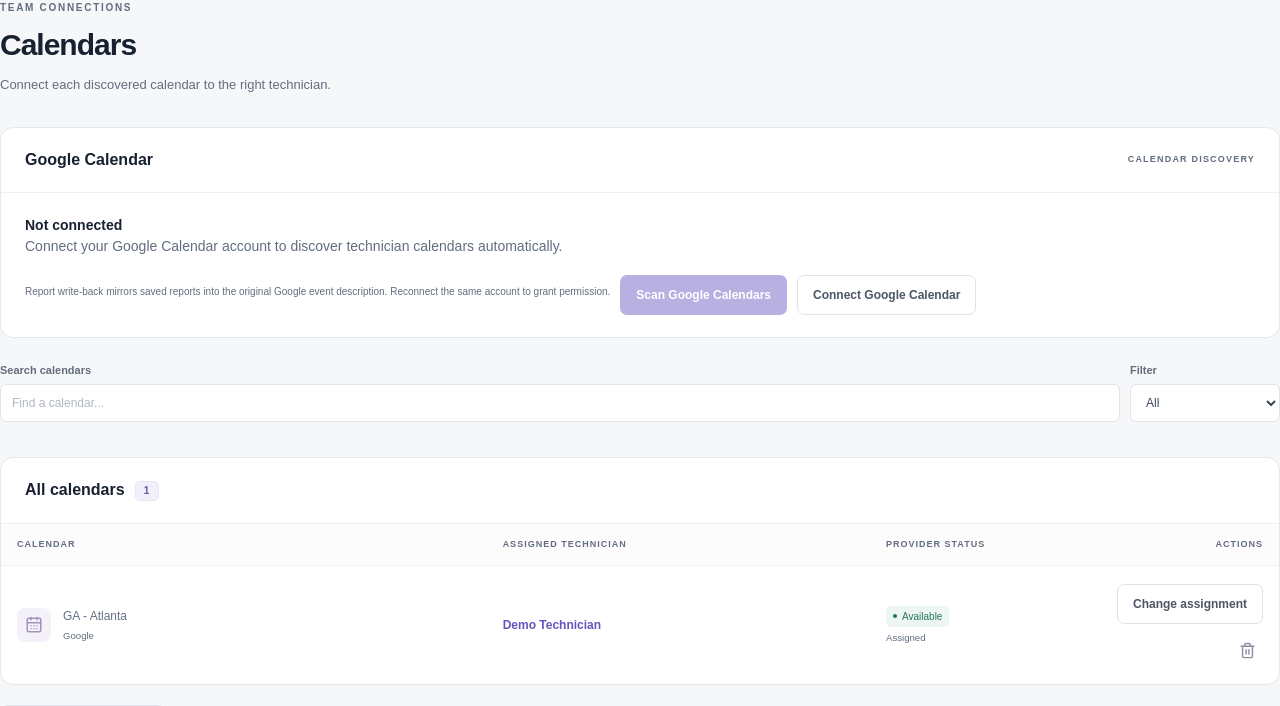
Test: confirms assigned exclusion and does not silently close on failure
Click the button named "Remove GA - Atlanta": (1247, 650) [1231,634,1263,666]
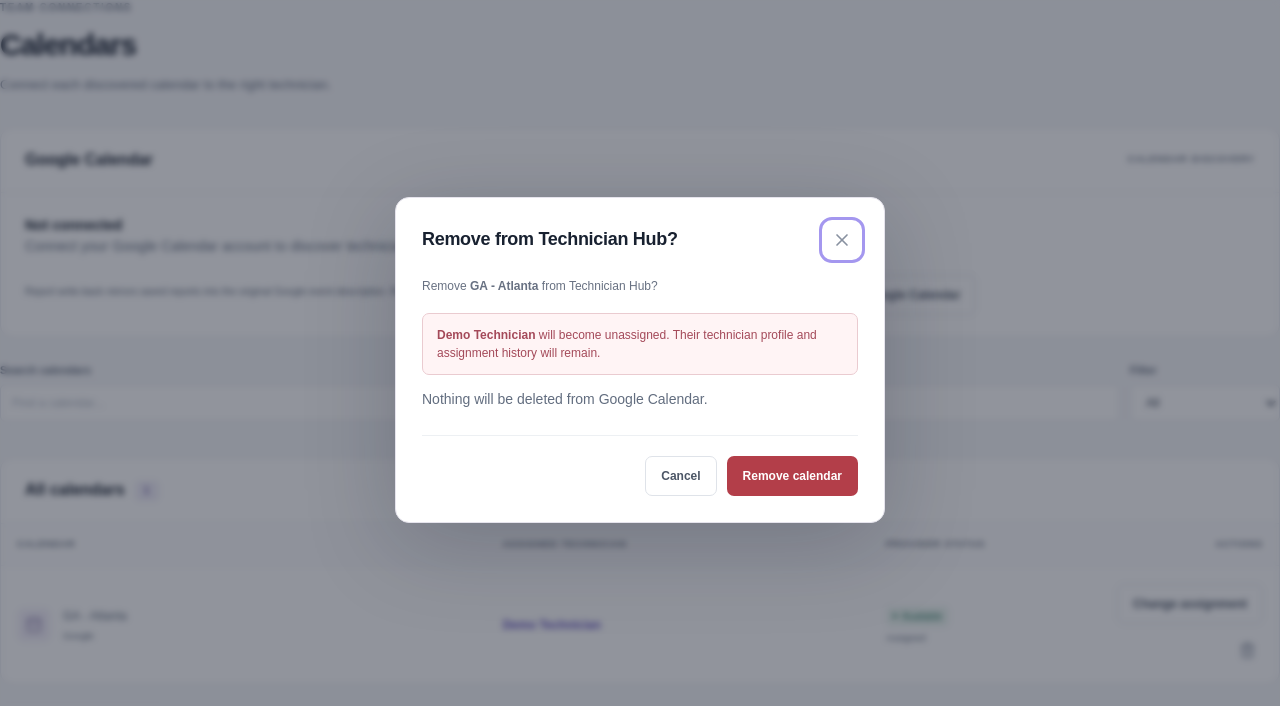
expect the dialog shows "will become unassigned": met, box [437,328,817,360]
expect the dialog shows "Nothing will be deleted from Google Calendar": met, box [422,391,708,407]
Click the button "Remove calendar": (792, 476) [727,456,858,496]
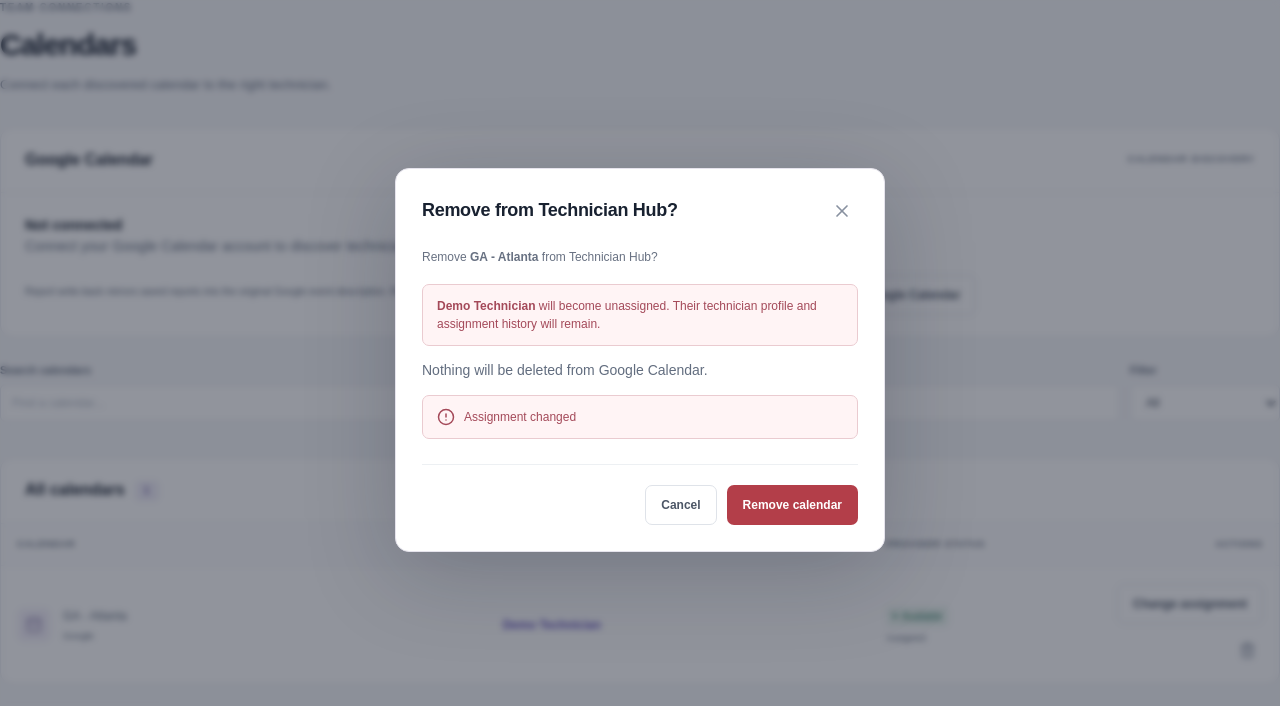
expect the button "Remove calendar" is enabled: met, box [727,485,858,525]
expect the message reads "Assignment changed": met, box [464,410,576,424]
